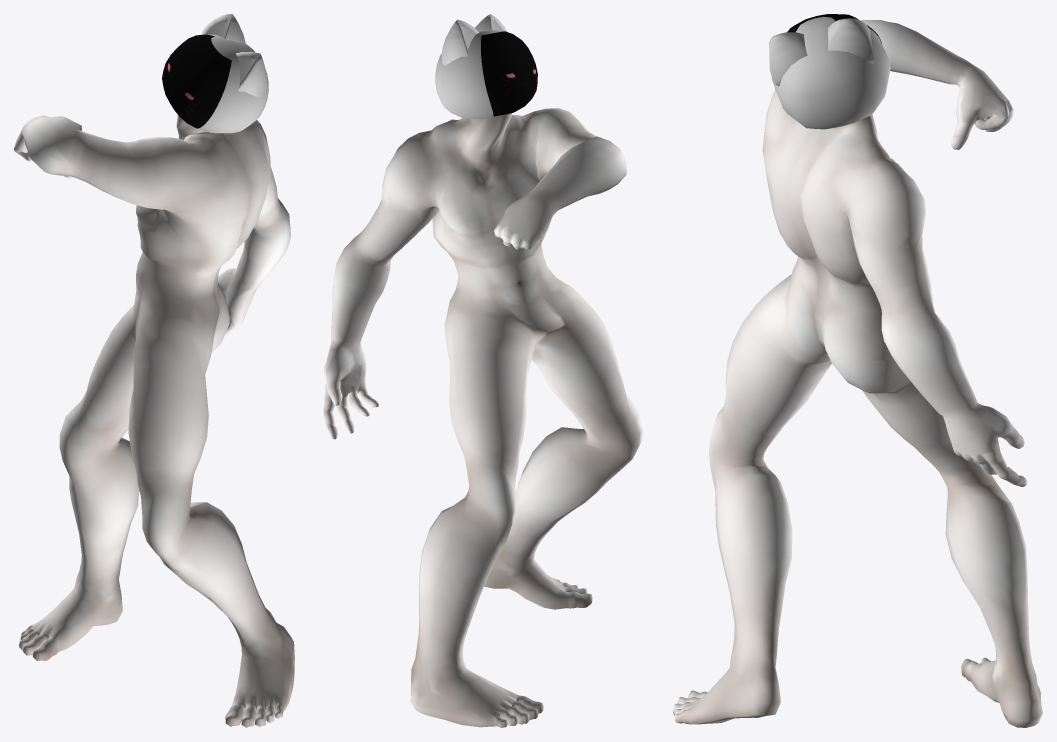
3 views of the same model, side by side, from view 1: azimuth 30°, elevation 25°; view 2: azimuth 150°, elevation 25°; view 3: azimuth 270°, elevation 25° (orthographic). The views are drawn at different scales.
Visible parts, largest first — view 1: Muscle_Body, Cat_Head, ______?001; view 2: Muscle_Body, Cat_Head, ______?001; view 3: Muscle_Body, Cat_Head.
Boxes of the visible parts, bbox=[...] form: Muscle_Body: bbox=[14, 115, 294, 727]; Cat_Head: bbox=[198, 14, 268, 133]; ______?001: bbox=[162, 34, 231, 128]; Muscle_Body: bbox=[323, 108, 644, 727]; Cat_Head: bbox=[435, 14, 507, 118]; ______?001: bbox=[481, 31, 537, 116]; Muscle_Body: bbox=[673, 20, 1042, 727]; Cat_Head: bbox=[769, 16, 890, 129].
Size of the model in its own units: 12.26 by 28.01 by 12.81.
